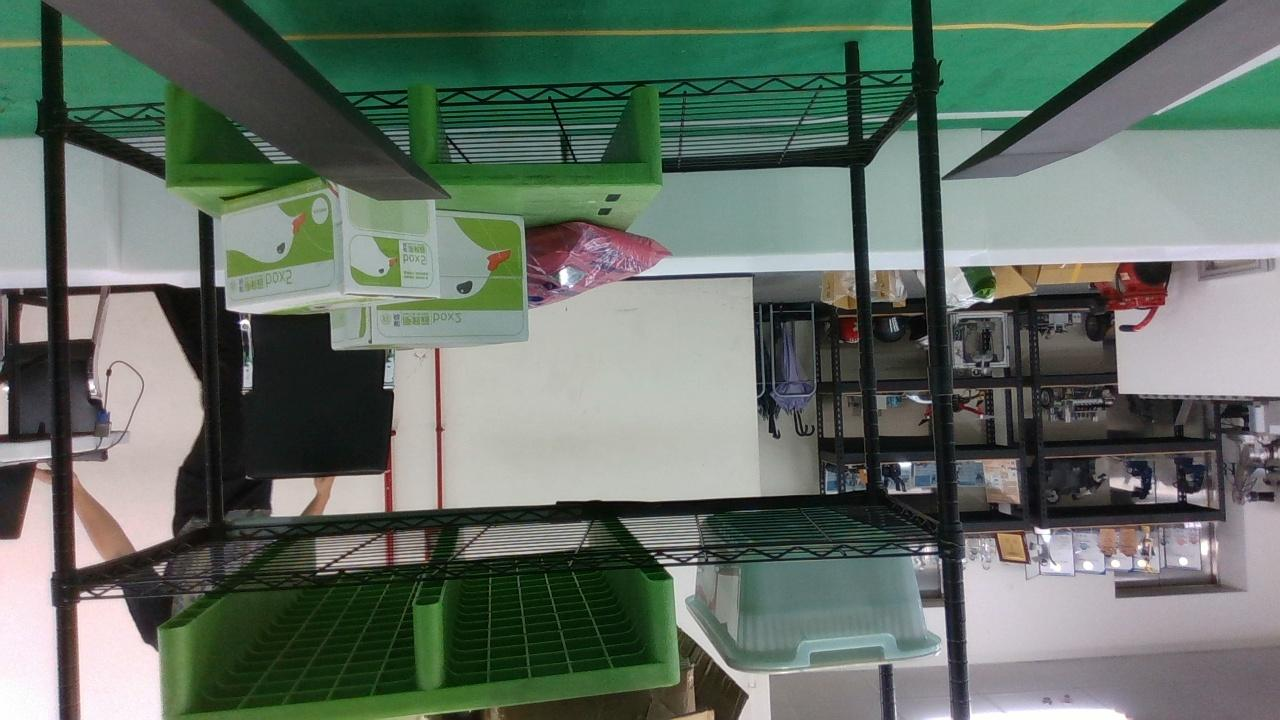Pallet: (156, 581, 685, 717), (162, 81, 670, 186)
